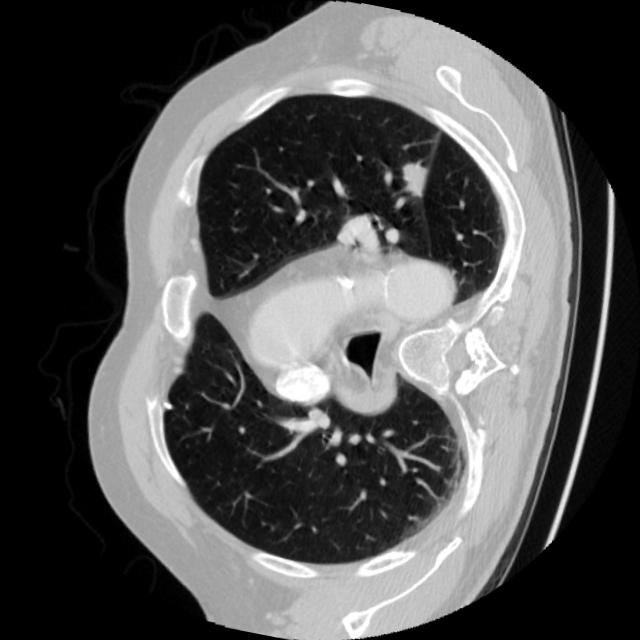nodule: (380, 144, 448, 212)
